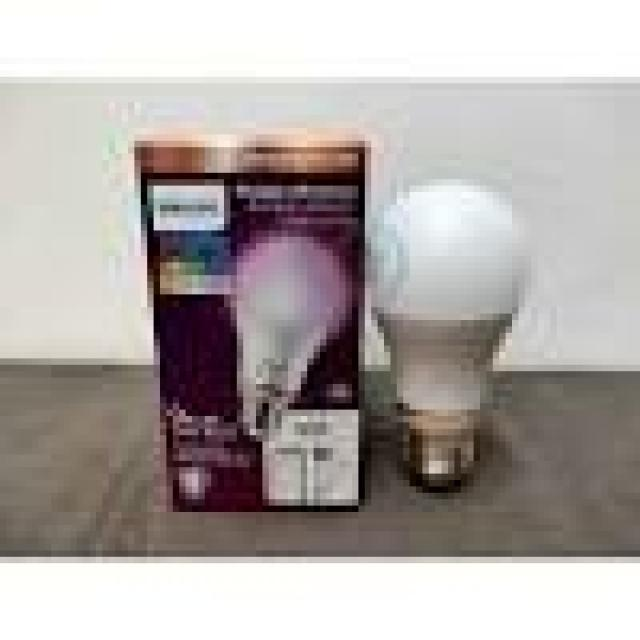light_bulb: (356, 164, 536, 503)
